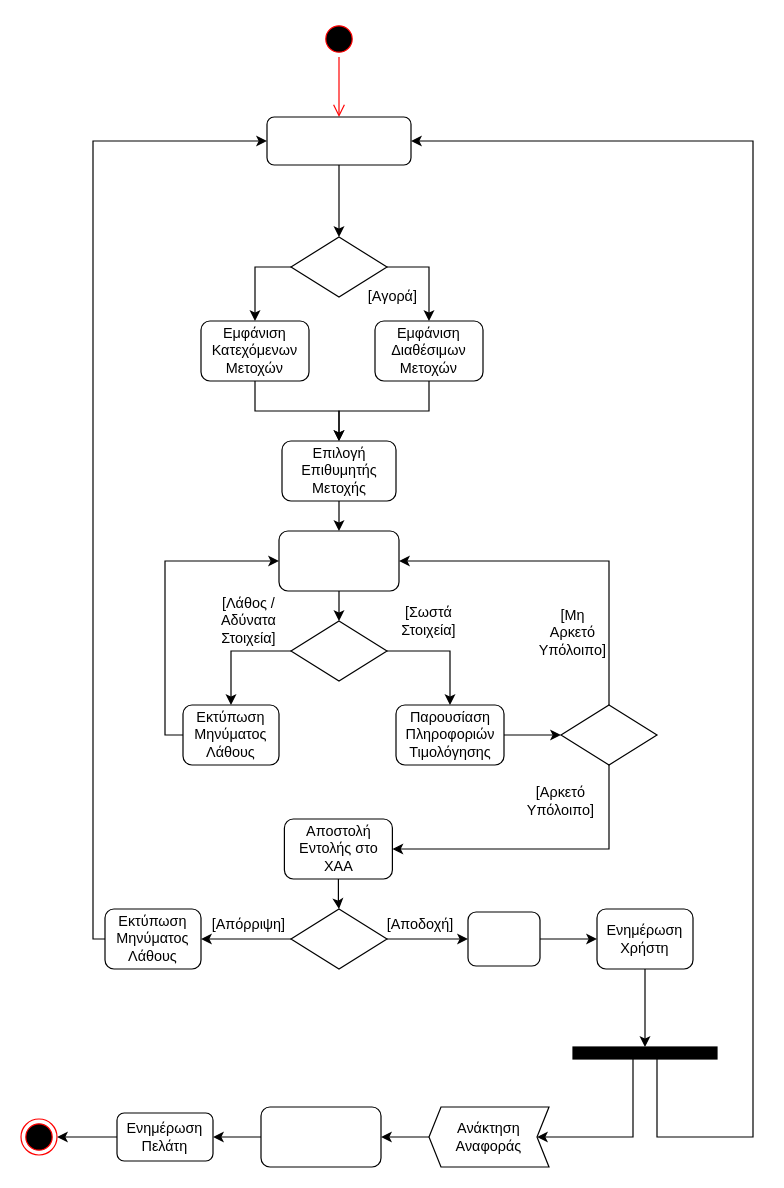
Some shapes in this 784 by 1188 pixel diagram are drawn without their labels. The box of each missing label's shape, as (x1, y1, x2, y2) in pixels:
[Πώληση]: (290, 236, 387, 297)
Έγκριση Εντολής: (467, 911, 540, 966)
Ενημέρωση Μερίδων Πελάτη: (260, 1106, 381, 1167)
Επιλογή Τύπου Εντολής: (266, 116, 411, 165)
Πληκτρολόγηση Στοιχείων Εντολής: (278, 530, 399, 591)
